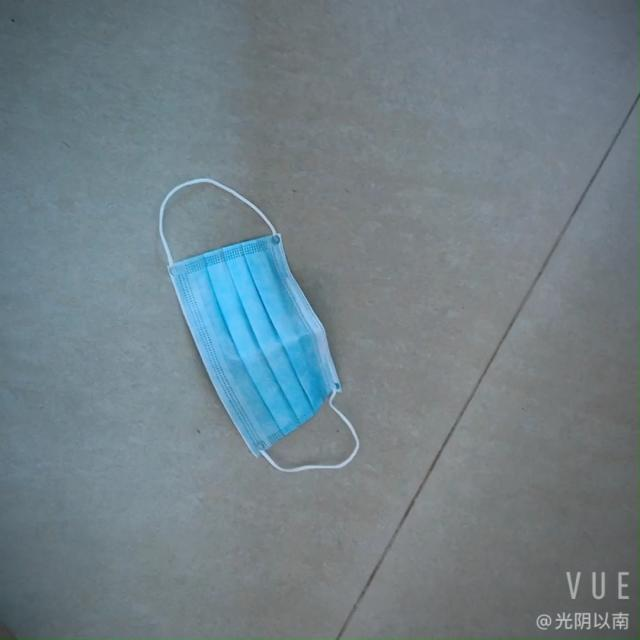non-organic waste: (143, 231, 348, 447)
